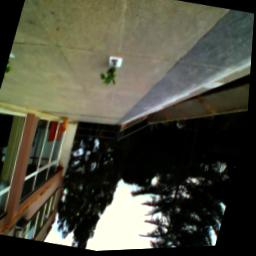herb: (99, 56, 124, 90)
